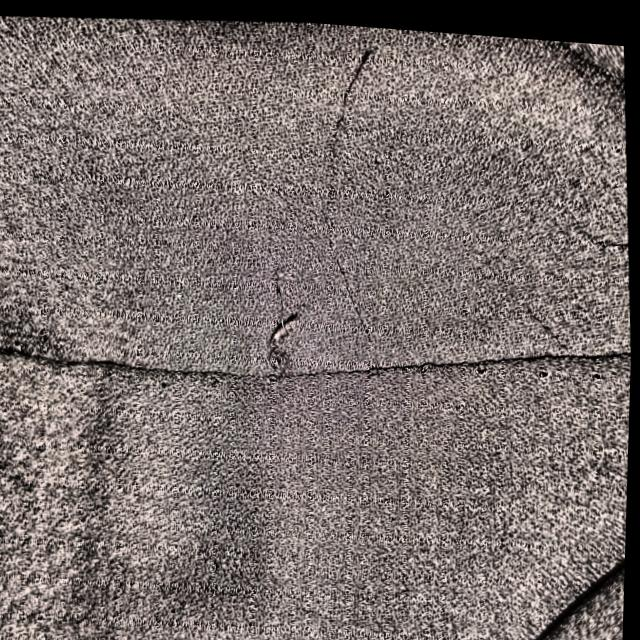Stitch: (248, 229, 326, 399)
